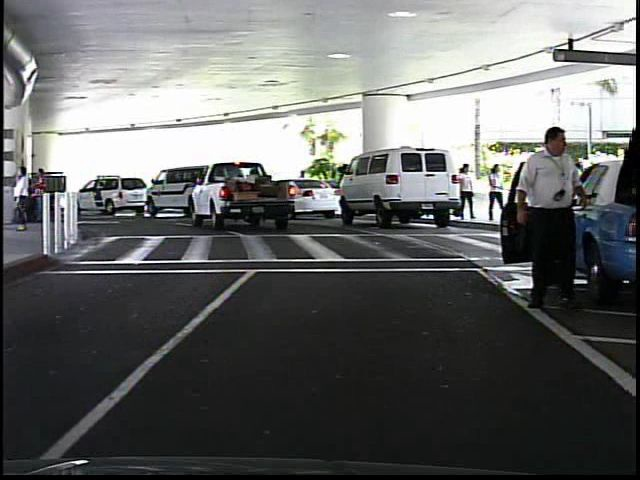person: (509, 118, 585, 316), (455, 159, 474, 226), (485, 162, 505, 225), (295, 167, 313, 213)
